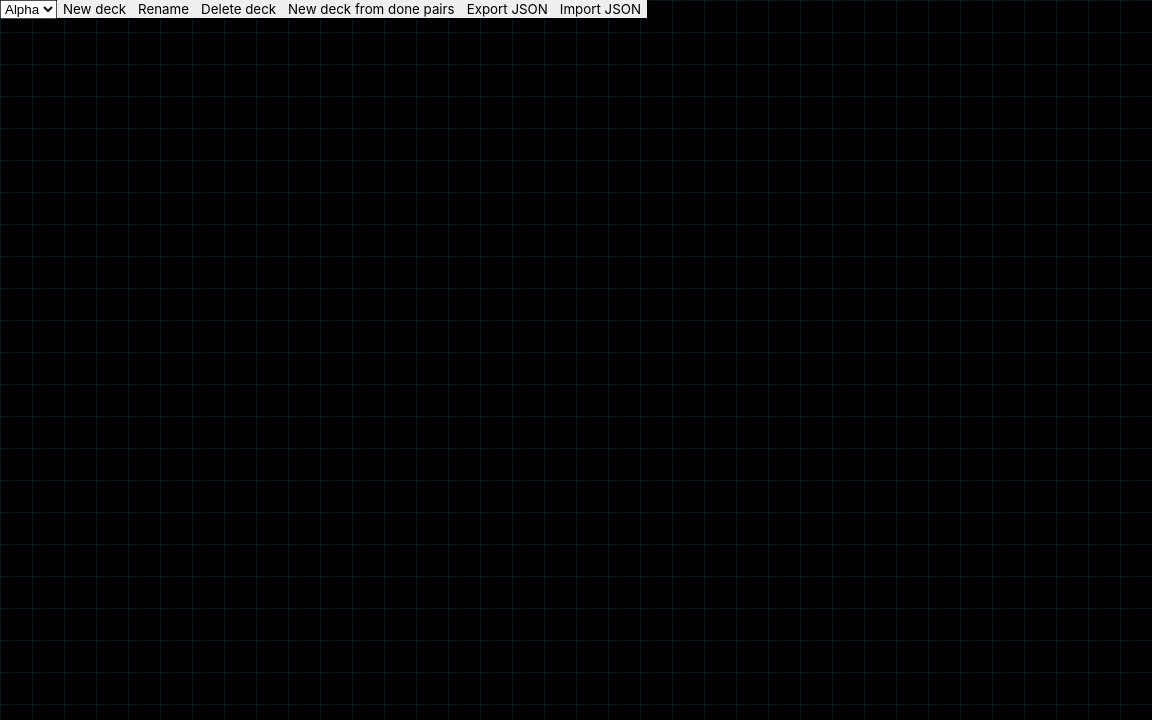
Test: DeckBar › shows the failure message when a delete fails
Click the button "Delete deck": (239,9) [195,0,282,18]
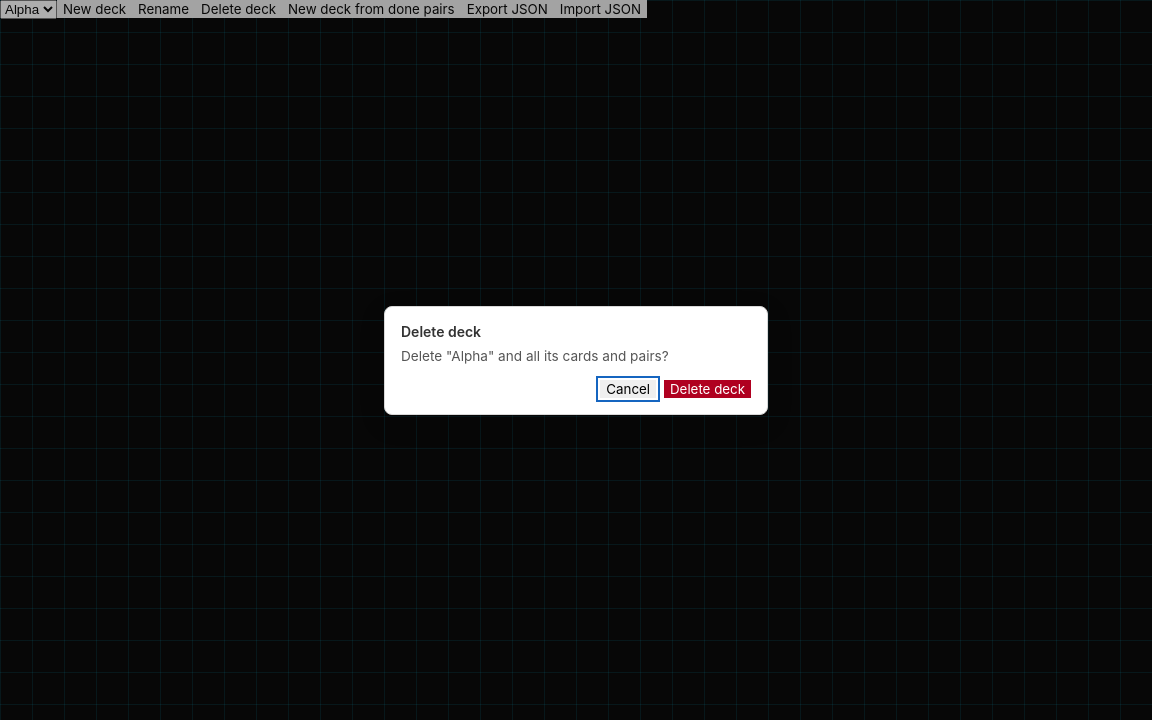
Click the button "Delete deck": (708,388) [664,380,751,398]
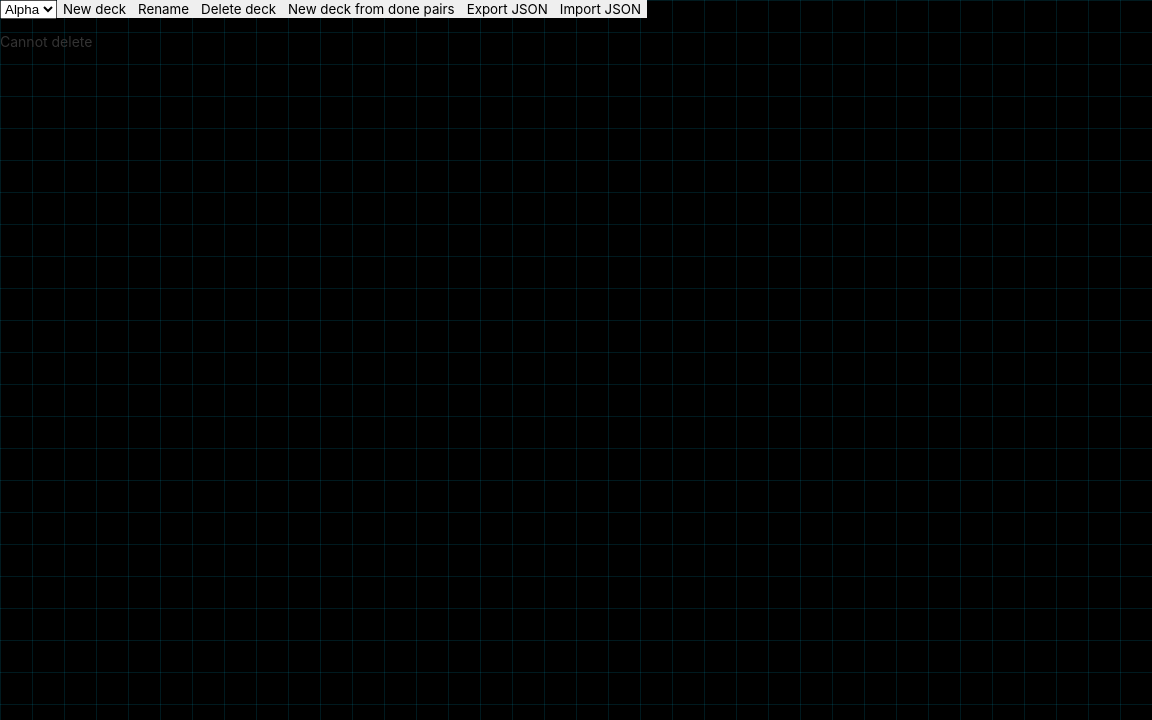
Now the message reads "Cannot delete", box [0,33,92,50]
